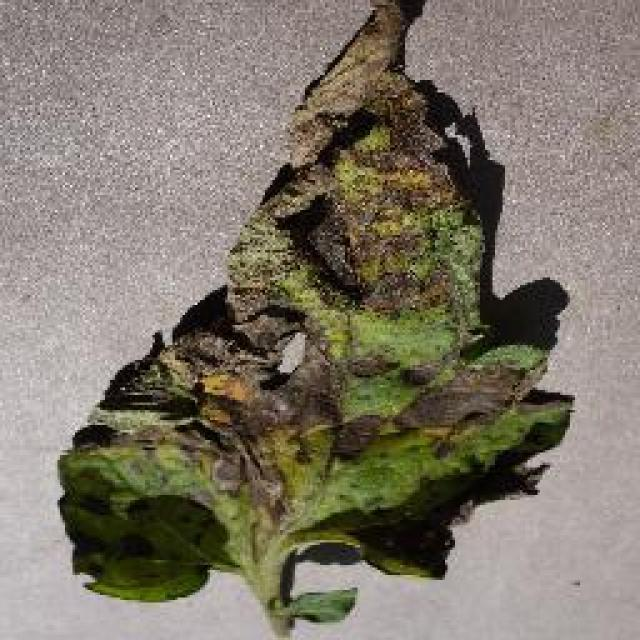Tomato Early blight leaf: (60, 0, 575, 600)
